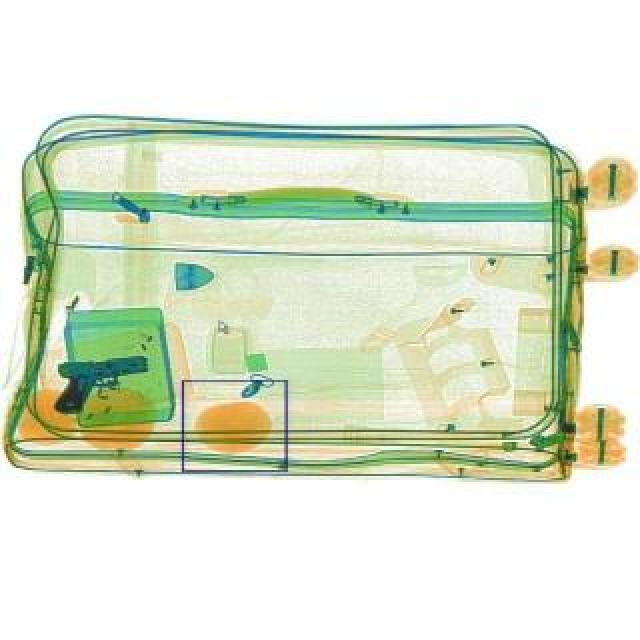gun: (50, 354, 150, 412)
